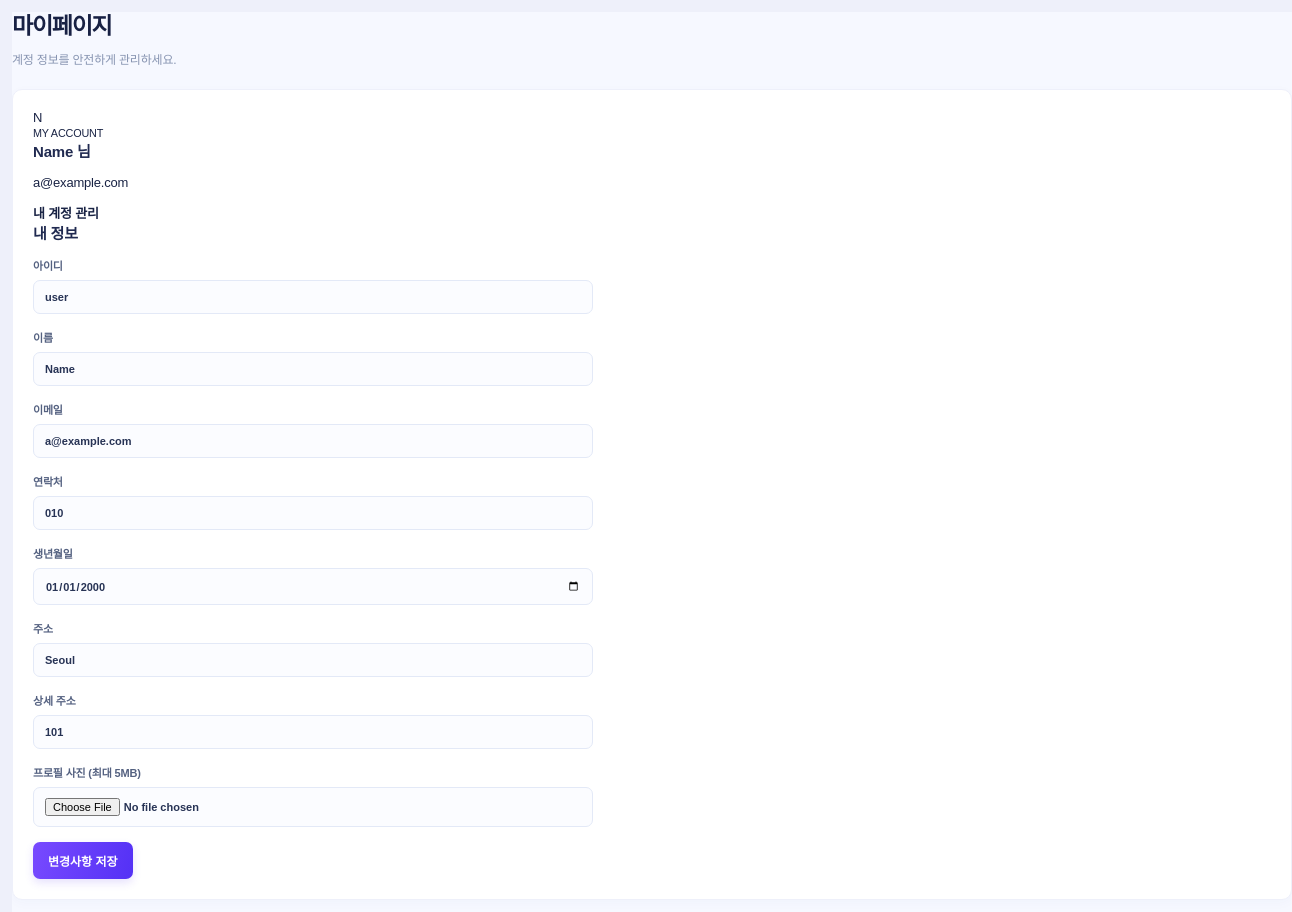
Test: profile updates include detailed fields from the shared profile API
Replace the text in the field labelled "연락처" with "010-1234". click: (313, 513)
box: [33,496,593,530]
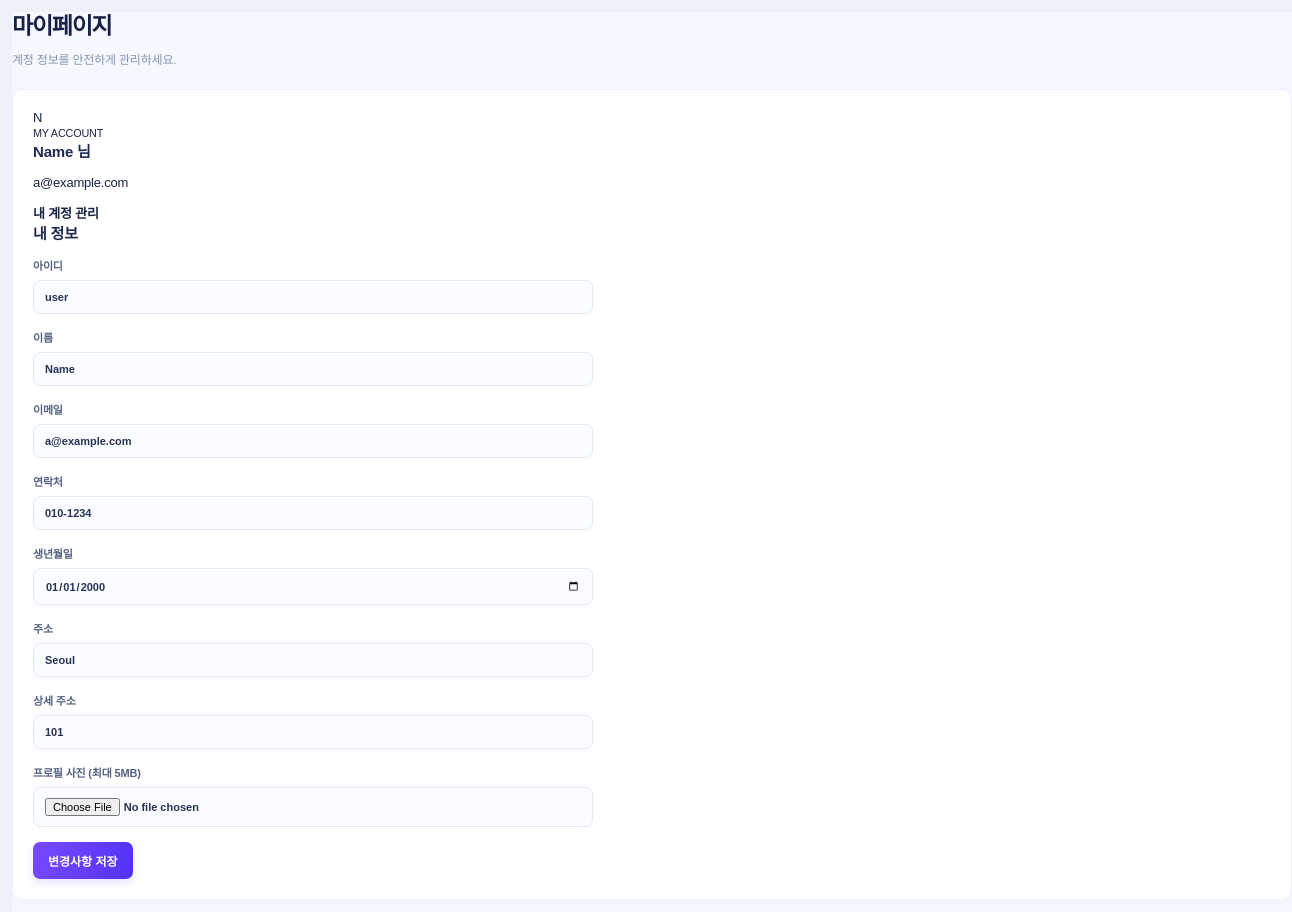
Click the button "변경사항 저장". click: (83, 861)
box: [33,842,133,879]
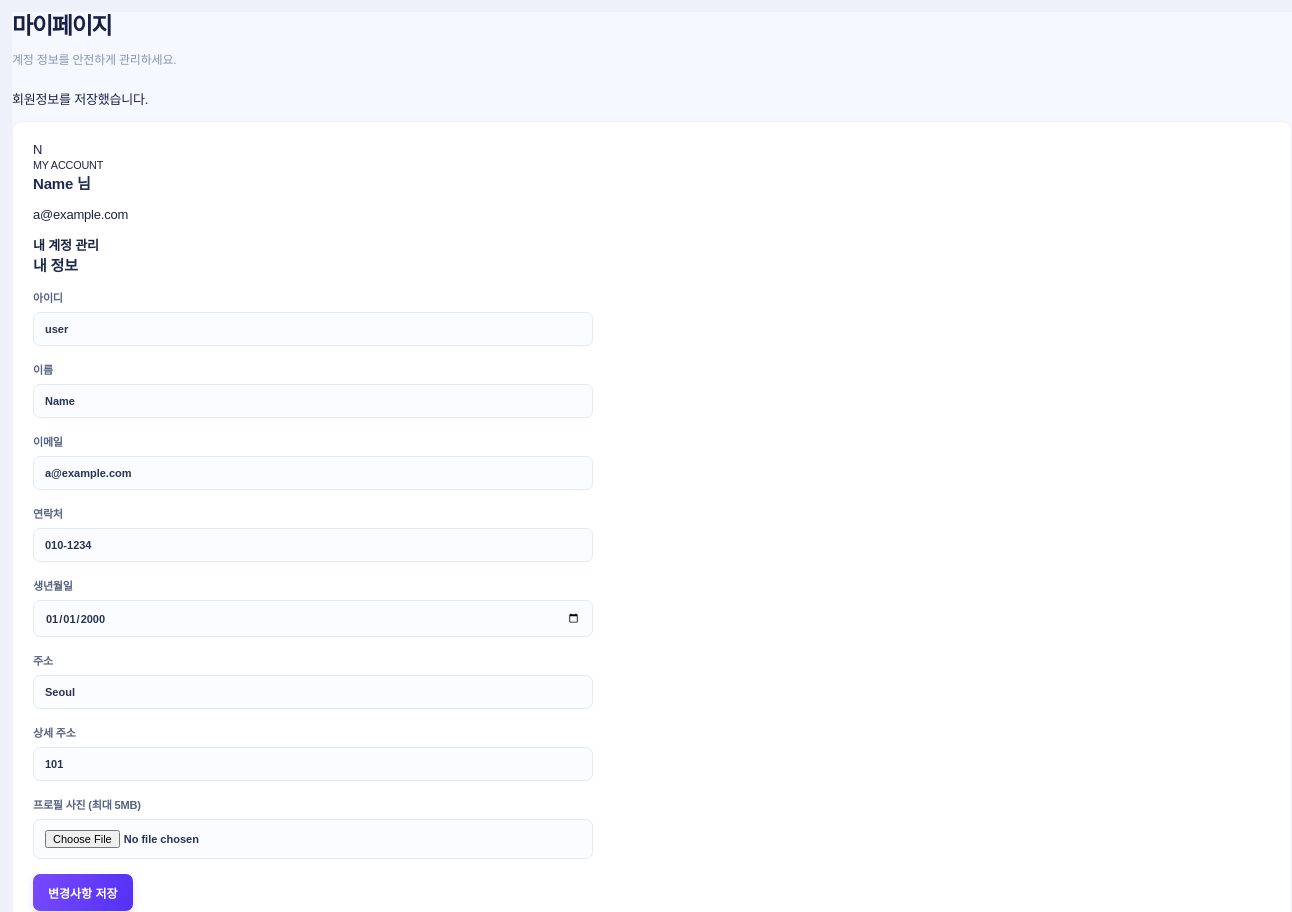
Expected: the text "회원정보를 저장했습니다." is shown, [12,92,148,107]
